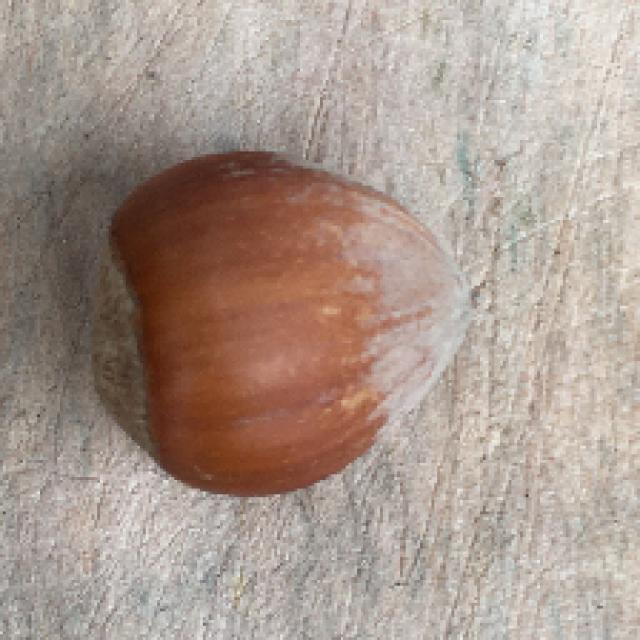hazelnut: (89, 147, 474, 510)
